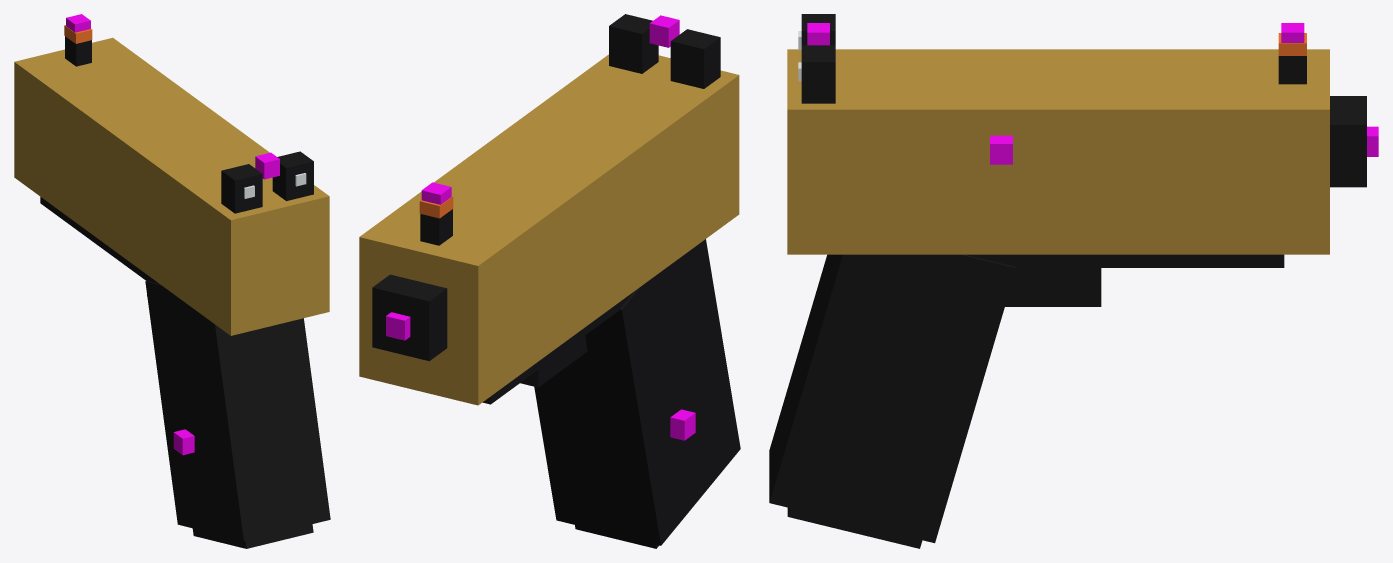
Rendered from Pistol.obj.
3 renders of one model, left to right at view 1: azimuth 30°, elevation 25°; view 2: azimuth 150°, elevation 25°; view 3: azimuth 270°, elevation 25°, orthographic. The views are drawn at different scales.
Parts seen in each view (by area): view 1: Skin_Slide, Grip, Slide_RearL, Slide_RearR, Magazine, Frame, Slide_FrontPost, Point_SightRear, Point_LeftHand; view 2: Skin_Slide, Grip, Barrel, Slide_RearL, Slide_RearR, Frame, TriggerGuard, Slide_FrontPost, Point_SightRear, Point_LeftHand, Point_Muzzle, Point_SightFront (+1 smaller); view 3: Skin_Slide, Grip, Frame, TriggerGuard, Barrel, Slide_RearR, Magazine, Slide_FrontPost.
Part boxes in pixels (x1,y1,x2,y2): Skin_Slide: [14, 37, 329, 335]; Grip: [145, 281, 330, 540]; Slide_RearL: [221, 164, 262, 213]; Slide_RearR: [272, 151, 313, 200]; Magazine: [192, 524, 313, 548]; Frame: [40, 197, 158, 283]; Slide_FrontPost: [65, 36, 91, 66]; Point_SightRear: [255, 152, 279, 179]; Point_LeftHand: [173, 429, 194, 455]; Skin_Slide: [359, 54, 739, 405]; Grip: [534, 239, 740, 545]; Barrel: [372, 274, 447, 361]; Slide_RearL: [670, 29, 720, 88]; Slide_RearR: [609, 14, 658, 73]; Frame: [482, 292, 633, 404]; TriggerGuard: [520, 336, 587, 387]; Slide_FrontPost: [420, 209, 452, 245]; Point_SightRear: [649, 15, 679, 47]; Point_LeftHand: [670, 409, 695, 440]; Point_Muzzle: [386, 312, 410, 340]; Point_SightFront: [421, 182, 451, 204]; Skin_Slide: [787, 49, 1329, 254]; Grip: [769, 254, 1016, 543]; Frame: [966, 254, 1284, 267]; TriggerGuard: [1005, 268, 1101, 306]; Barrel: [1330, 96, 1366, 187]; Slide_RearR: [801, 45, 835, 103]; Magazine: [787, 507, 922, 548]; Slide_FrontPost: [1278, 56, 1306, 84].
Size of the model in its own units: 0.3 by 0.967 by 1.07.
